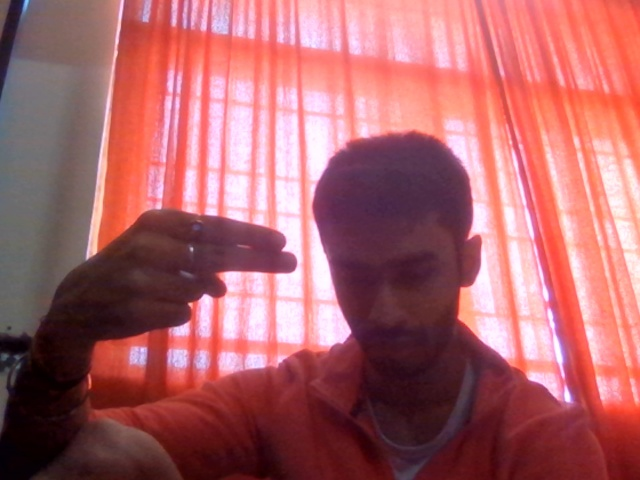H: (33, 182, 309, 384)
